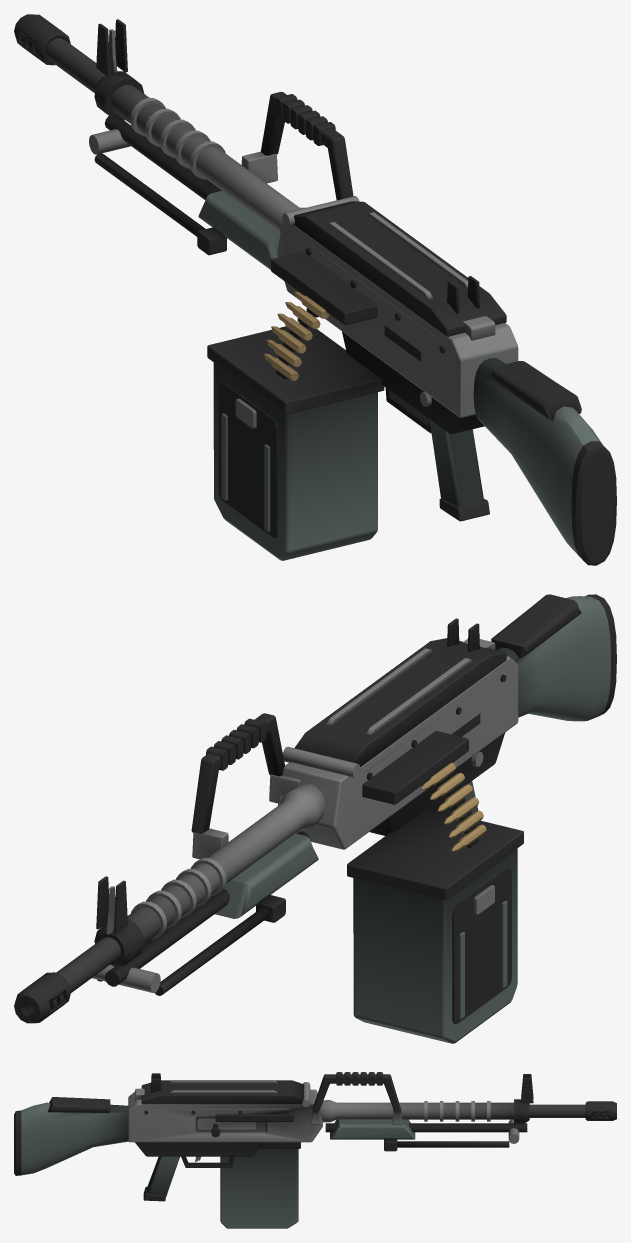
File: bastion_lmg.glb
The picture shows the model from 3 angles, top to bottom: view 1: azimuth 30°, elevation 25°; view 2: azimuth 150°, elevation 25°; view 3: azimuth 270°, elevation 25°; orthographic projection. The views are drawn at different scales.
Visible parts, largest first — view 1: Magazine, Receiver, Barrel, Stock, FeedCover, CarryHandle, Bipod, Belt; view 2: Magazine, Barrel, Receiver, FeedCover, Stock, CarryHandle, Bipod, Belt; view 3: Receiver, Barrel, Stock, Magazine, FeedCover, CarryHandle, Bipod, Bolt.
Boxes of the visible parts, box(x1,y1,x2,y2) form: Magazine: box(207, 323, 384, 560); Receiver: box(271, 220, 518, 521); Barrel: box(14, 14, 305, 269); Stock: box(473, 358, 616, 565); FeedCover: box(282, 196, 506, 340); CarryHandle: box(241, 92, 353, 200); Bipod: box(89, 129, 226, 255); Belt: box(263, 292, 329, 380); Magazine: box(347, 808, 523, 1043); Barrel: box(14, 783, 325, 1023); Receiver: box(278, 618, 518, 849); FeedCover: box(282, 638, 506, 778); Stock: box(491, 594, 616, 721); CarryHandle: box(191, 713, 300, 859); Bipod: box(92, 894, 285, 995); Belt: box(421, 762, 486, 851); Receiver: box(128, 1073, 322, 1201); Barrel: box(320, 1074, 616, 1139); Stock: box(14, 1097, 128, 1175); Magazine: box(220, 1142, 300, 1228); FeedCover: box(135, 1080, 310, 1107); CarryHandle: box(311, 1072, 402, 1124); Bipod: box(384, 1119, 519, 1151); Bolt: box(197, 1118, 255, 1137).
Size of the model in its own units: 0.2475 by 0.419 by 1.34.
